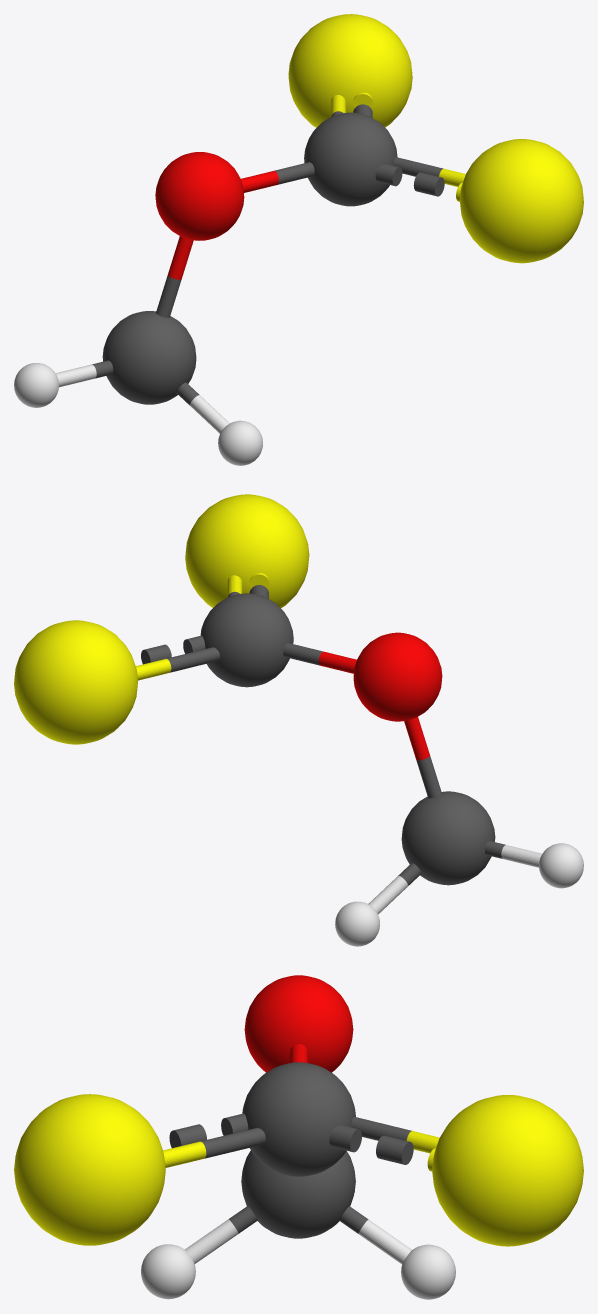
The model's file is methyl-xanthate.fbx.
The picture shows the model from 3 angles, top to bottom: view 1: azimuth 30°, elevation 25°; view 2: azimuth 150°, elevation 25°; view 3: azimuth 270°, elevation 25°; orthographic projection. The views are drawn at different scales.
Visible parts, largest first — view 1: S03, S02, C05, C01, O04, H08, H06, O04-C05, C01-=S03.001, C01-O04, C05-H08, C01-=S03 (+1 smaller); view 2: S02, S03, C05, C01, O04, H06, H07, C01-=S02, O04-C05, C01-O04, C05-H07, C05-H06 (+1 smaller); view 3: S03, S02, C01, O04, C05, H08, H07, C01-=S03, C01-=S02.001, C05-H08, C05-H07, C01-=S02 (+1 smaller).
Boxes of the visible parts, x1=… form: S03: x1=460, y1=139, x2=583, y2=263; S02: x1=288, y1=14, x2=412, y2=127; C05: x1=102, y1=311, x2=196, y2=404; C01: x1=304, y1=112, x2=397, y2=206; O04: x1=155, y1=152, x2=244, y2=240; H08: x1=218, y1=420, x2=262, y2=465; H06: x1=14, y1=363, x2=58, y2=407; O04-C05: x1=156, y1=236, x2=193, y2=317; C01-=S03.001: x1=375, y1=164, x2=462, y2=201; C01-O04: x1=241, y1=162, x2=314, y2=192; C05-H08: x1=176, y1=382, x2=229, y2=433; C01-=S03: x1=393, y1=157, x2=465, y2=186; S02: x1=14, y1=620, x2=137, y2=744; S03: x1=185, y1=494, x2=309, y2=607; C05: x1=401, y1=791, x2=495, y2=885; C01: x1=200, y1=593, x2=293, y2=687; O04: x1=353, y1=632, x2=442, y2=721; H06: x1=539, y1=843, x2=583, y2=888; H07: x1=335, y1=901, x2=379, y2=946; C01-=S02: x1=136, y1=647, x2=219, y2=680; O04-C05: x1=404, y1=717, x2=441, y2=798; C01-O04: x1=283, y1=643, x2=356, y2=673; C05-H07: x1=368, y1=863, x2=421, y2=914; C05-H06: x1=485, y1=841, x2=542, y2=867; S03: x1=14, y1=1094, x2=165, y2=1245; S02: x1=432, y1=1095, x2=583, y2=1246; C01: x1=242, y1=1062, x2=355, y2=1176; O04: x1=244, y1=975, x2=353, y2=1072; C05: x1=241, y1=1150, x2=355, y2=1238; H08: x1=141, y1=1244, x2=195, y2=1299; H07: x1=401, y1=1244, x2=455, y2=1299; C01-=S03: x1=163, y1=1128, x2=265, y2=1167; C01-=S02.001: x1=329, y1=1125, x2=435, y2=1171; C05-H08: x1=185, y1=1206, x2=257, y2=1263; C05-H07: x1=339, y1=1206, x2=411, y2=1264; C01-=S02: x1=351, y1=1116, x2=439, y2=1153.
Size of the model in its own units: 448 by 255 by 383.
